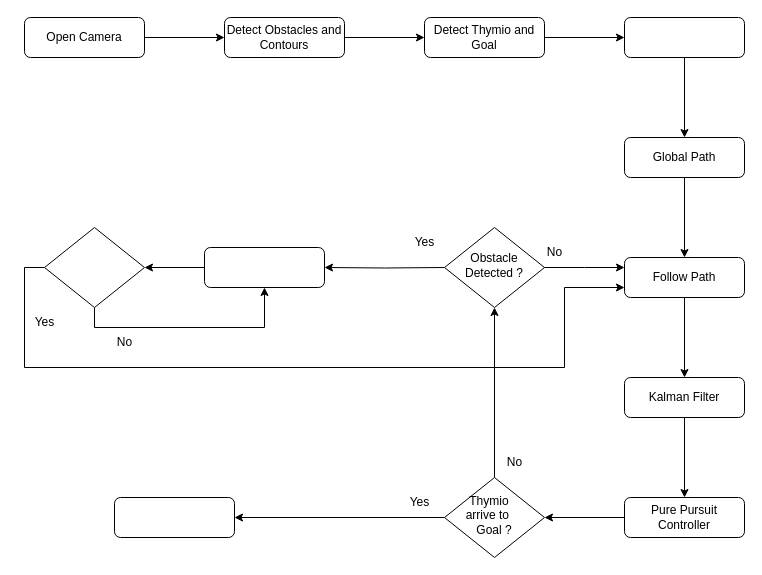
Some shapes in this 762 by 575 pixel diagram are drawn without their labels. Here are the shapes that lost their labels. From the top down, the centre of each, then its label:
At (x=684, y=37): "Image Rescaling".
At (x=94, y=267): "Obtacle avoided ?".
At (x=264, y=267): "Avoid Obstacle".
At (x=174, y=517): "Finish".
